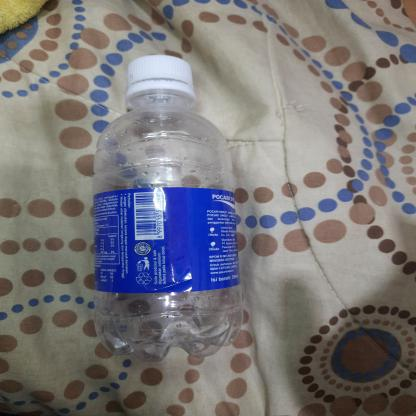plastic: (84, 54, 245, 365)
